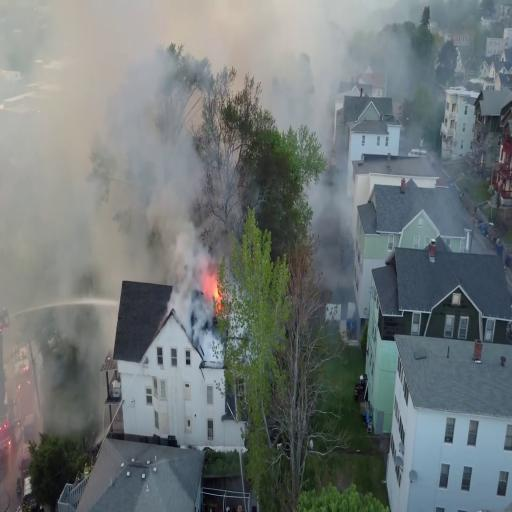smoke: (164, 191, 205, 318)
